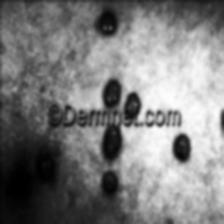Toxin: (102, 124, 120, 160), (7, 171, 31, 196), (36, 149, 55, 177)
